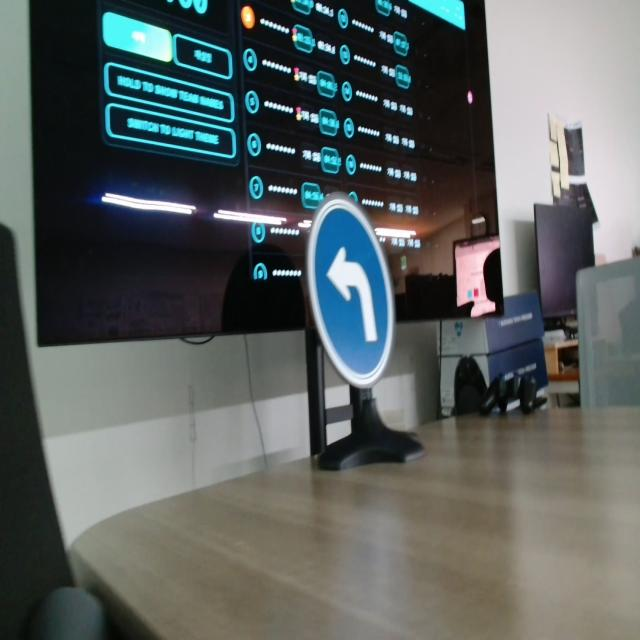left_direction: (292, 169, 420, 406)
